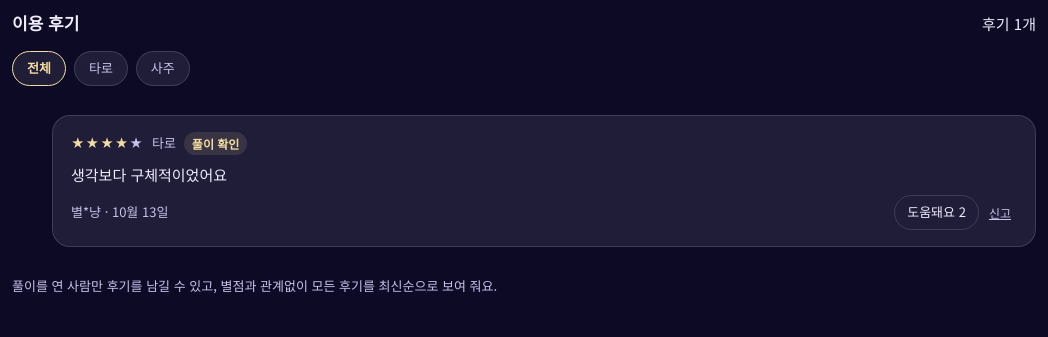
Test: ReviewList › asks a visitor to log in before 도움돼요
Click the button "도움돼요 2".
click(937, 212)  # box x1=894 y1=195 x2=979 y2=230
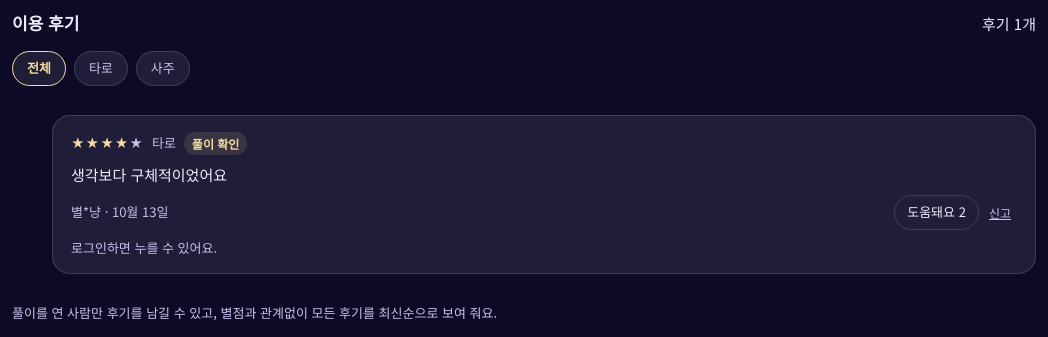
Expected: the message reads "로그인하면 누를 수 있어요.", x1=71 y1=238 x2=217 y2=257
